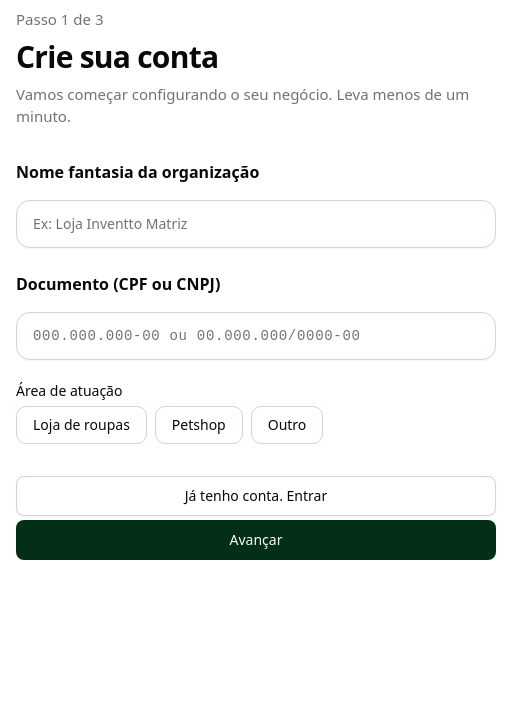
SignUpForm Feature › Integration Tests (UI Flow) › should prevent navigation if CNPJ is present but Corporate Name is missing
In the field labelled "Nome fantasia da organização": (256, 224) [16,200,496,248], type "Inventto Tech"
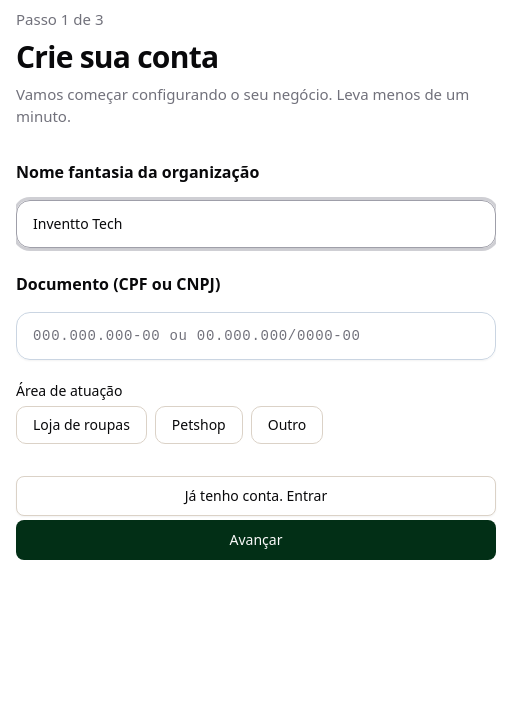
In the field labelled "Documento (CPF ou CNPJ)": (256, 336) [16,312,496,360], type "33.400.689/0001-09"
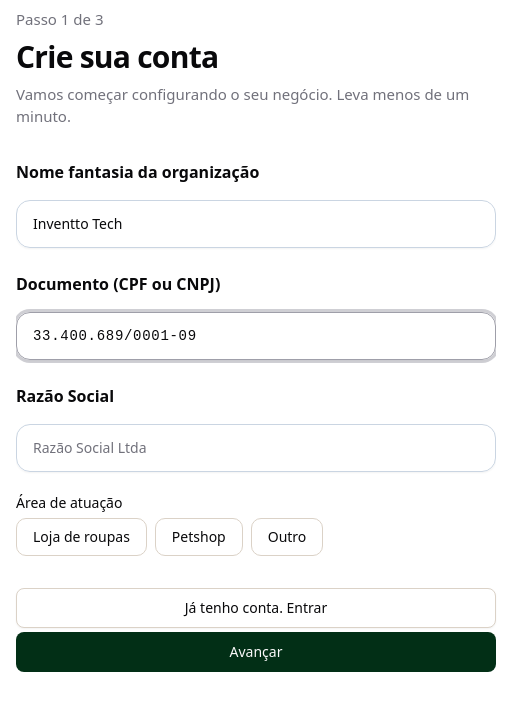
Click the radio button with test id "business-area-option-clothing": (81, 536) [16,518,147,556]
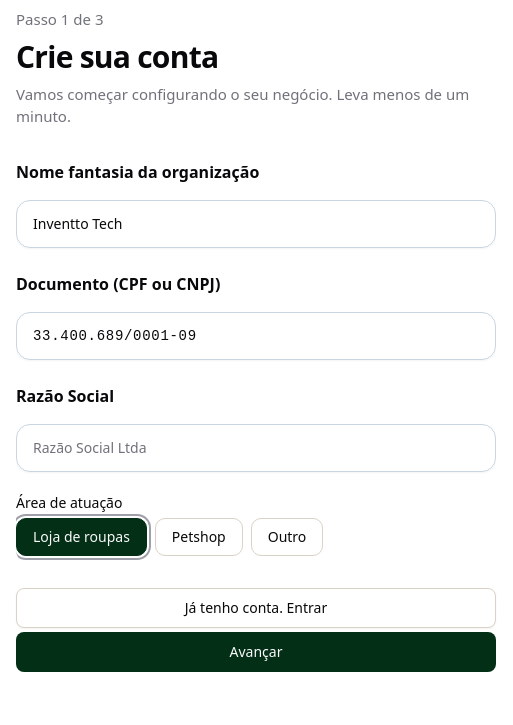
Click the button "Avançar": (256, 652) [16,632,496,672]
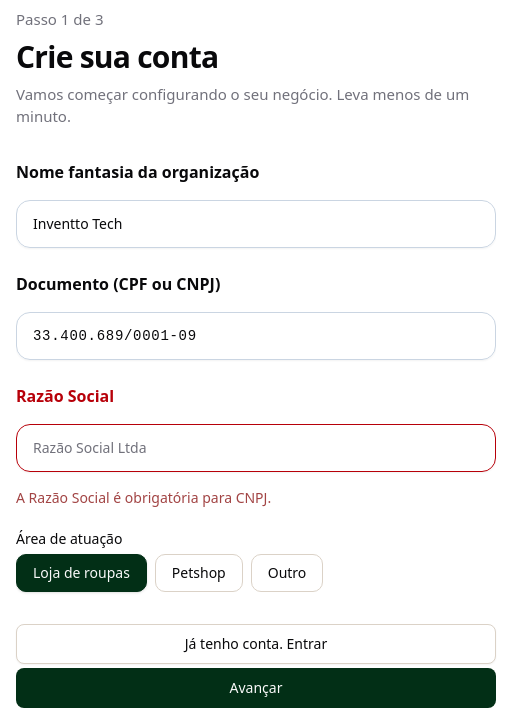
Now the text "A Razão Social é obrigatória para CNPJ." is shown, box [16,488,271,506]
